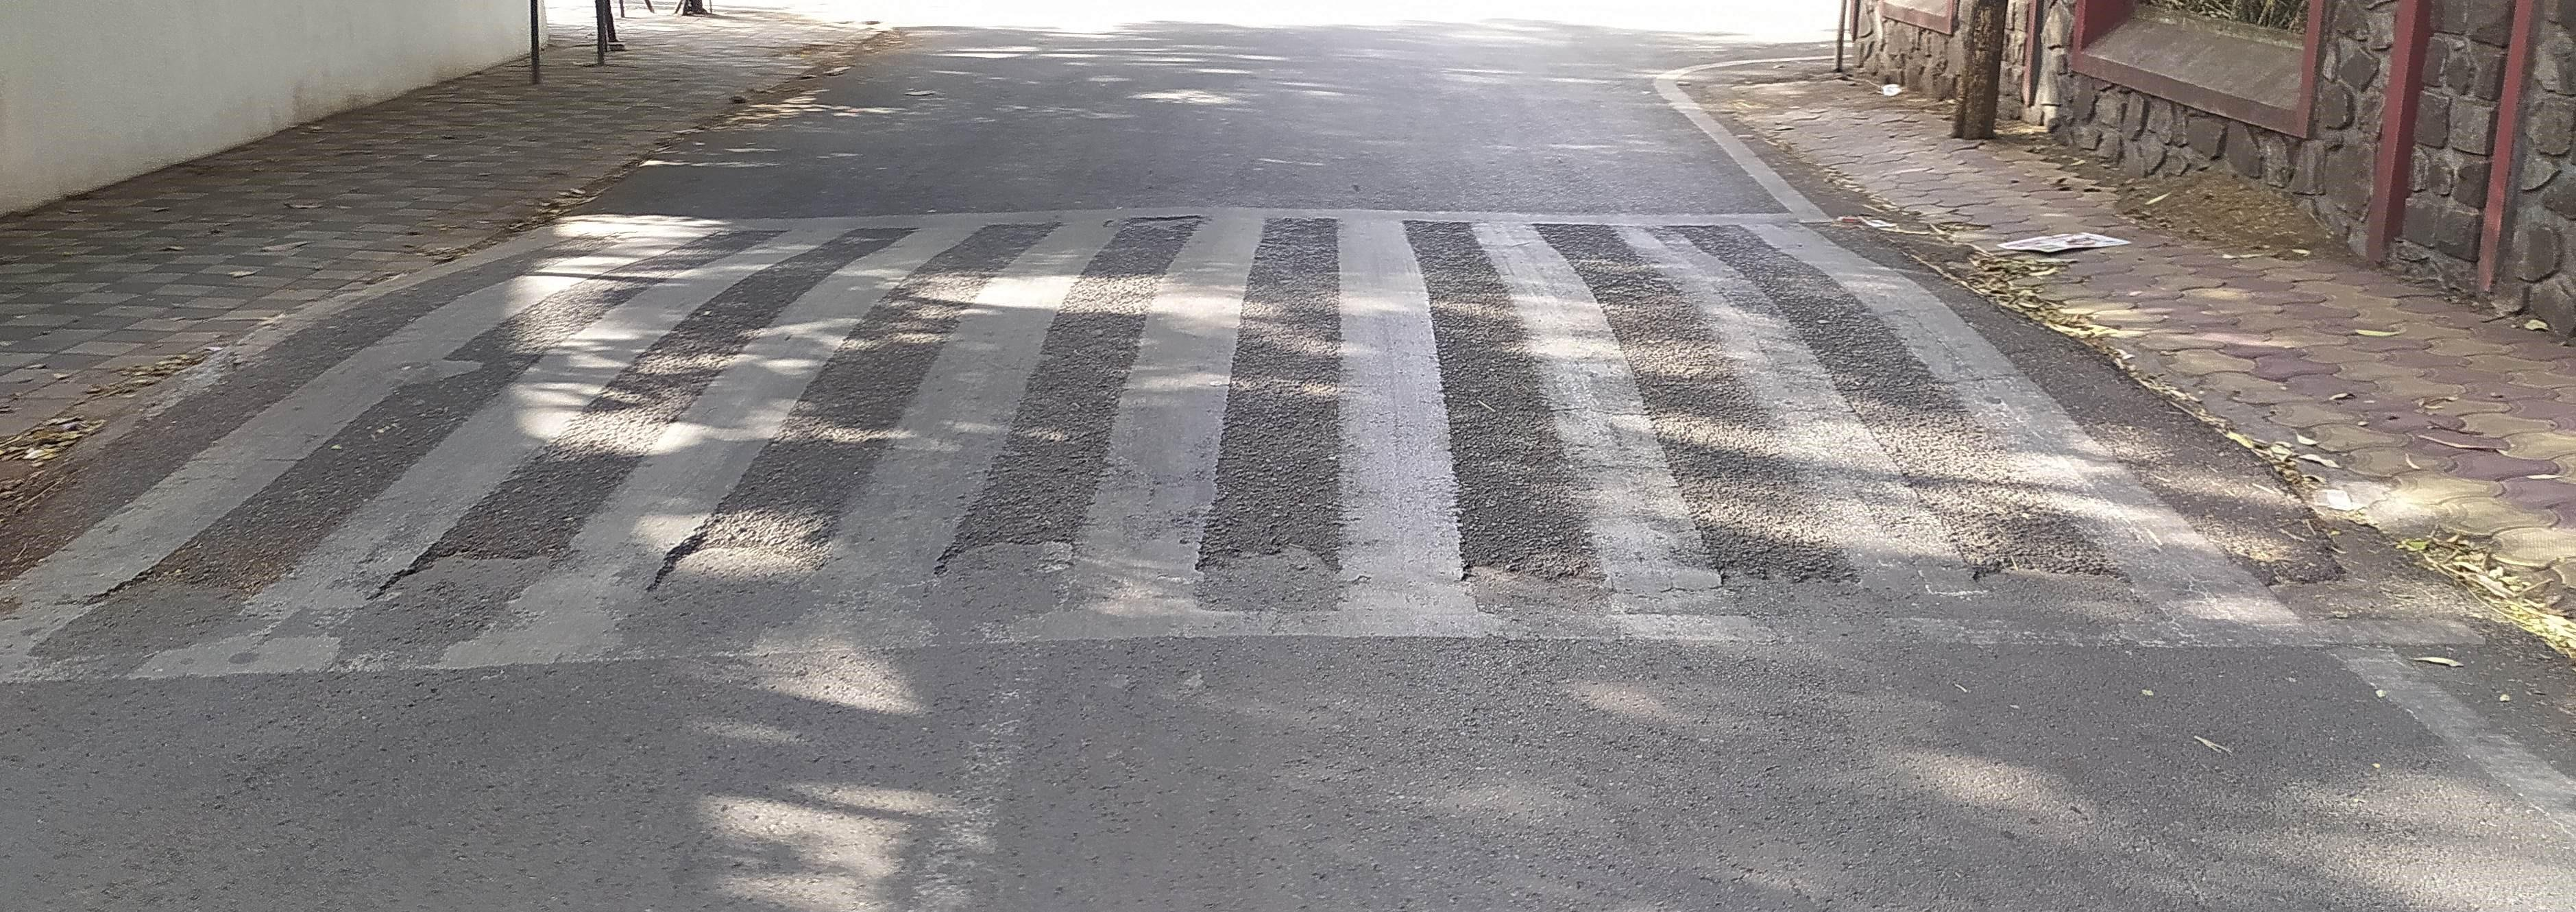speed-bump: (7, 215, 2329, 595)
